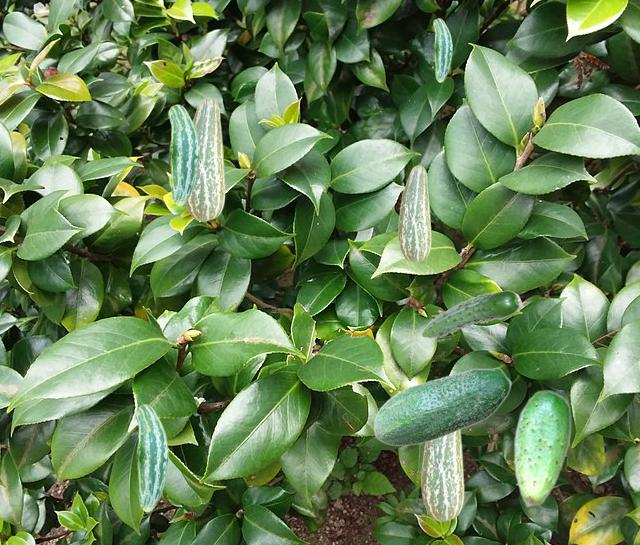cucumber: (373, 367, 511, 445), (513, 389, 570, 506), (185, 97, 224, 220), (421, 290, 521, 337), (421, 431, 463, 520), (135, 404, 167, 511), (398, 165, 430, 261), (168, 104, 198, 205), (433, 18, 451, 81)
